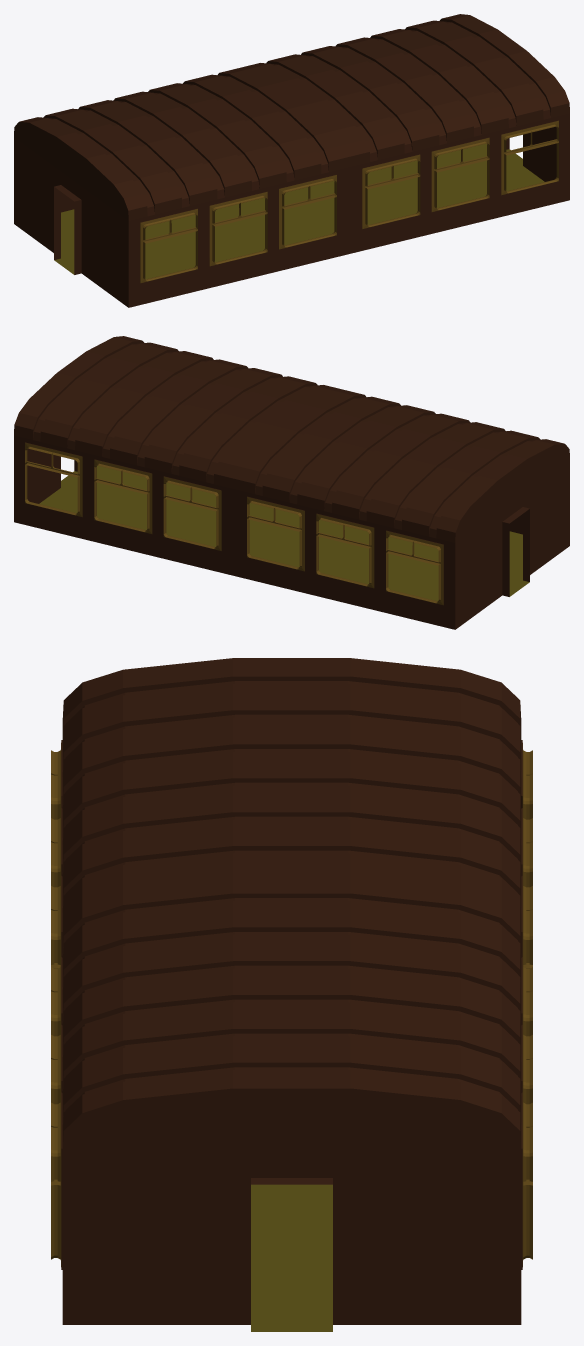
Rendered from Carriage.fbx.
The picture shows the model from 3 angles, top to bottom: view 1: azimuth 30°, elevation 25°; view 2: azimuth 150°, elevation 25°; view 3: azimuth 270°, elevation 25°; orthographic projection. The views are drawn at different scales.
Visible parts, largest first — view 1: GeneralCarriage; view 2: GeneralCarriage; view 3: GeneralCarriage.
Part boxes in pixels (left/top/right/bottom): GeneralCarriage: left=14, top=14, right=569, bottom=307; GeneralCarriage: left=14, top=336, right=569, bottom=629; GeneralCarriage: left=51, top=658, right=532, bottom=1331.
Size of what is drawn, in the model's own units: 6065 by 1503 by 2779.
